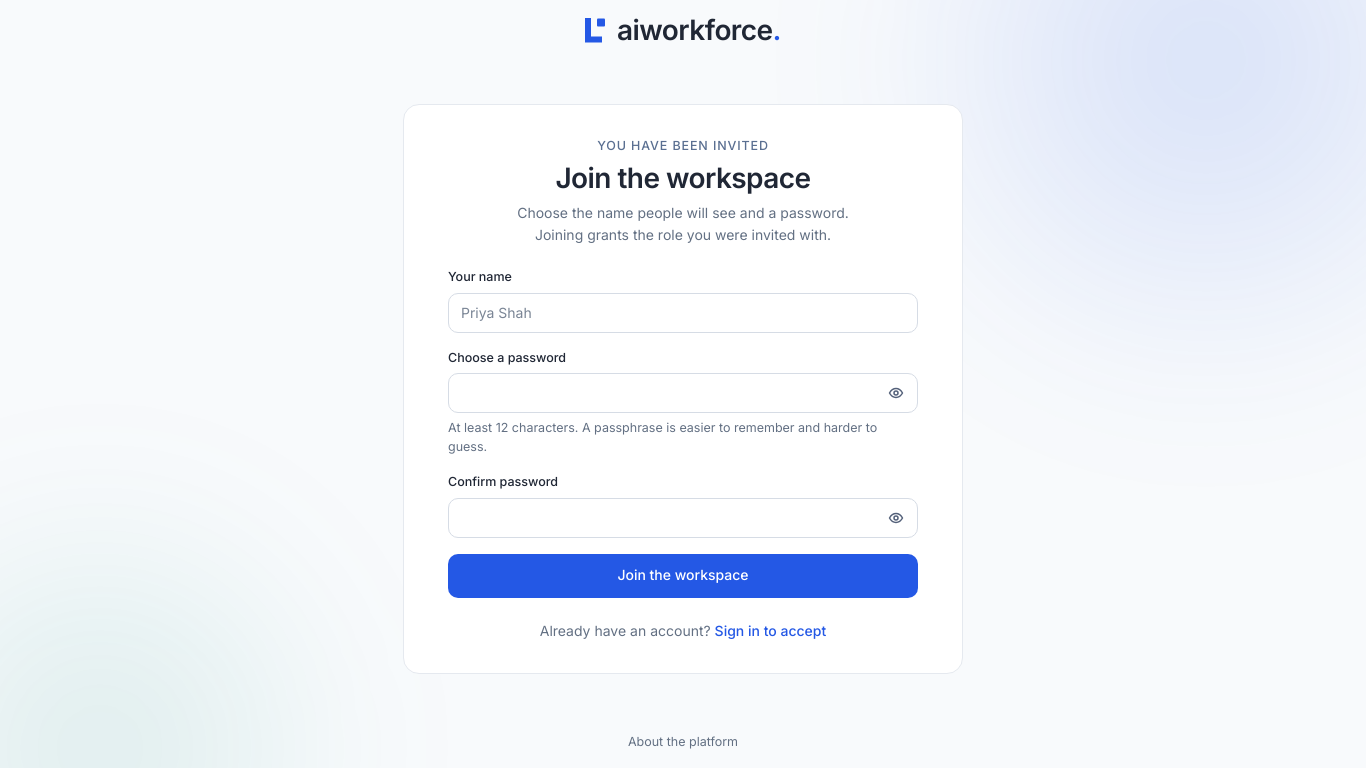
Scenario: AcceptInvite › replaces the form for an expired invitation and for an unknown link
Type "Rita Returning" into the field labelled "Your name" at (683, 312), box [448, 292, 918, 332]
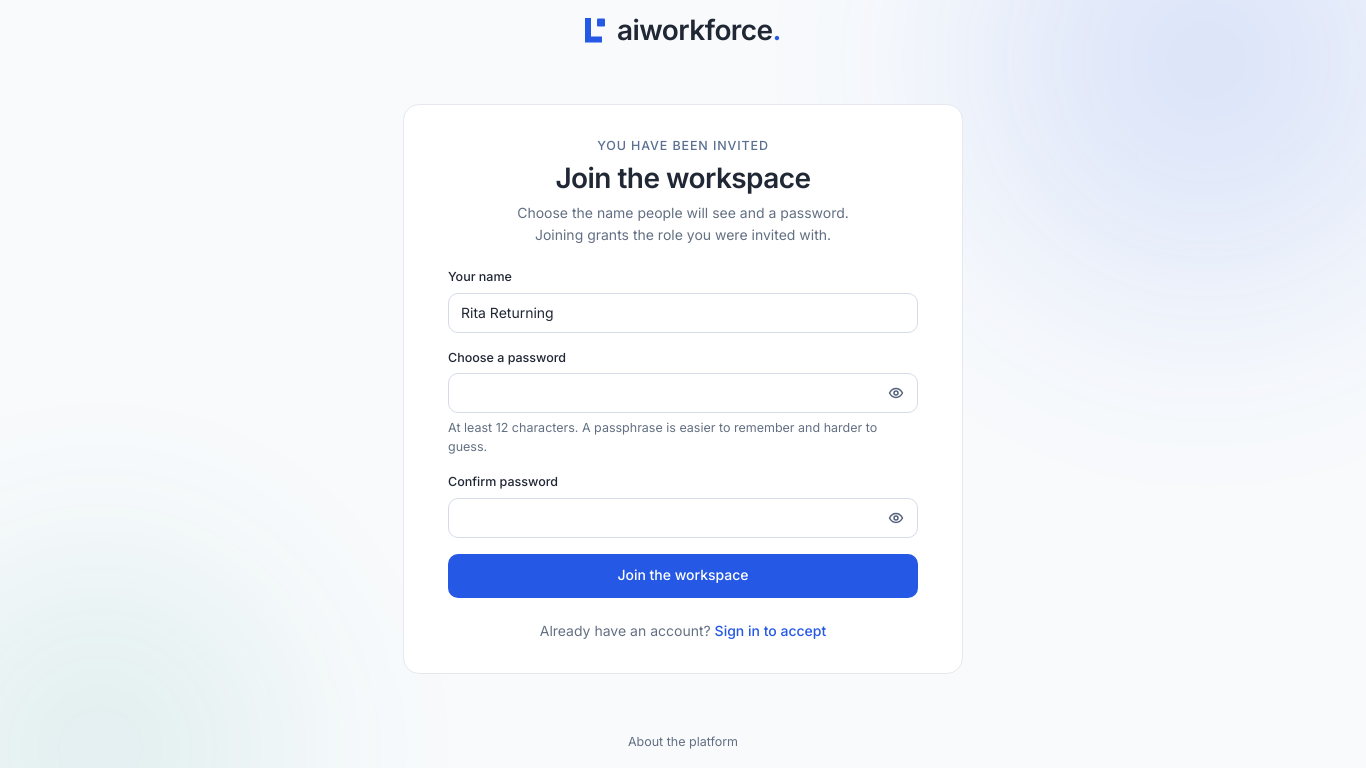
Type "correct horse battery" into the password field labelled "Choose a password" at (683, 393), box [448, 373, 918, 413]
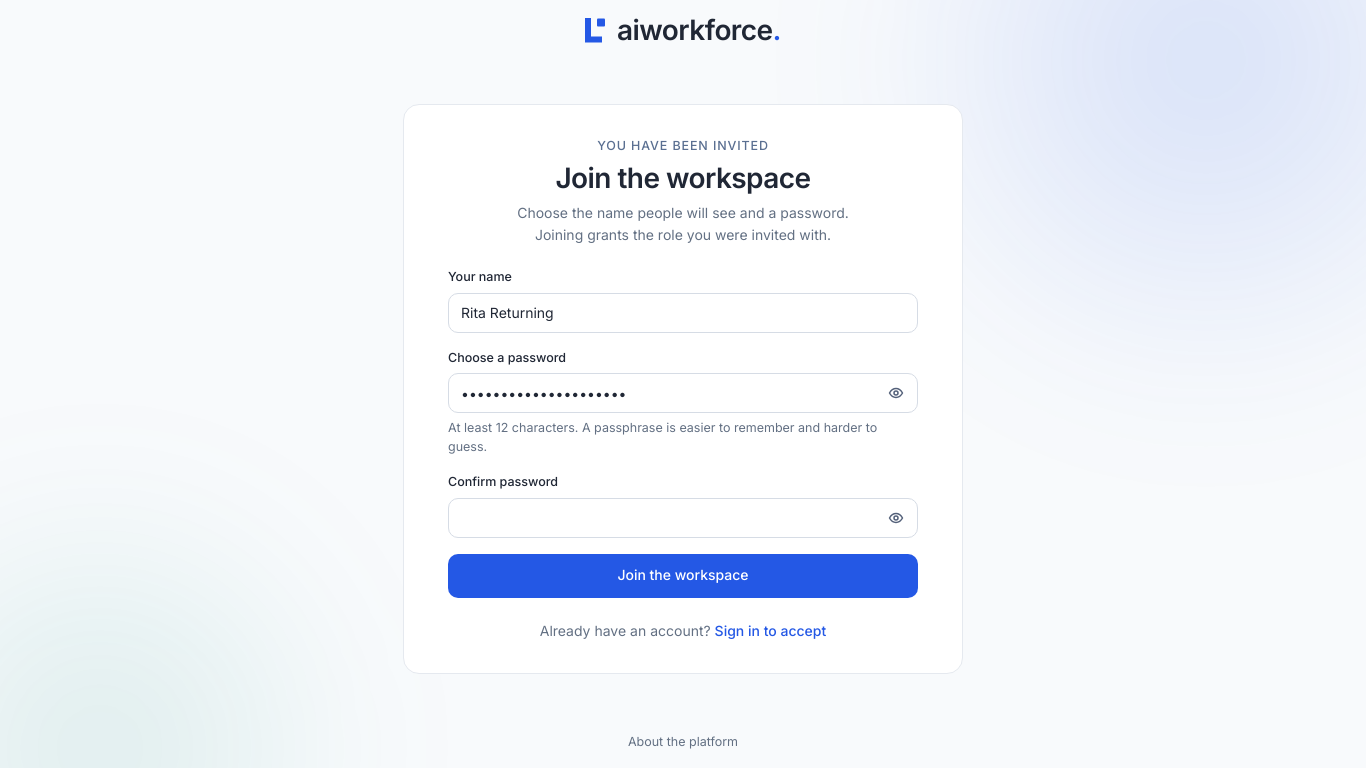
Type "correct horse battery" into the password field labelled "Confirm password" at (683, 518), box [448, 498, 918, 538]
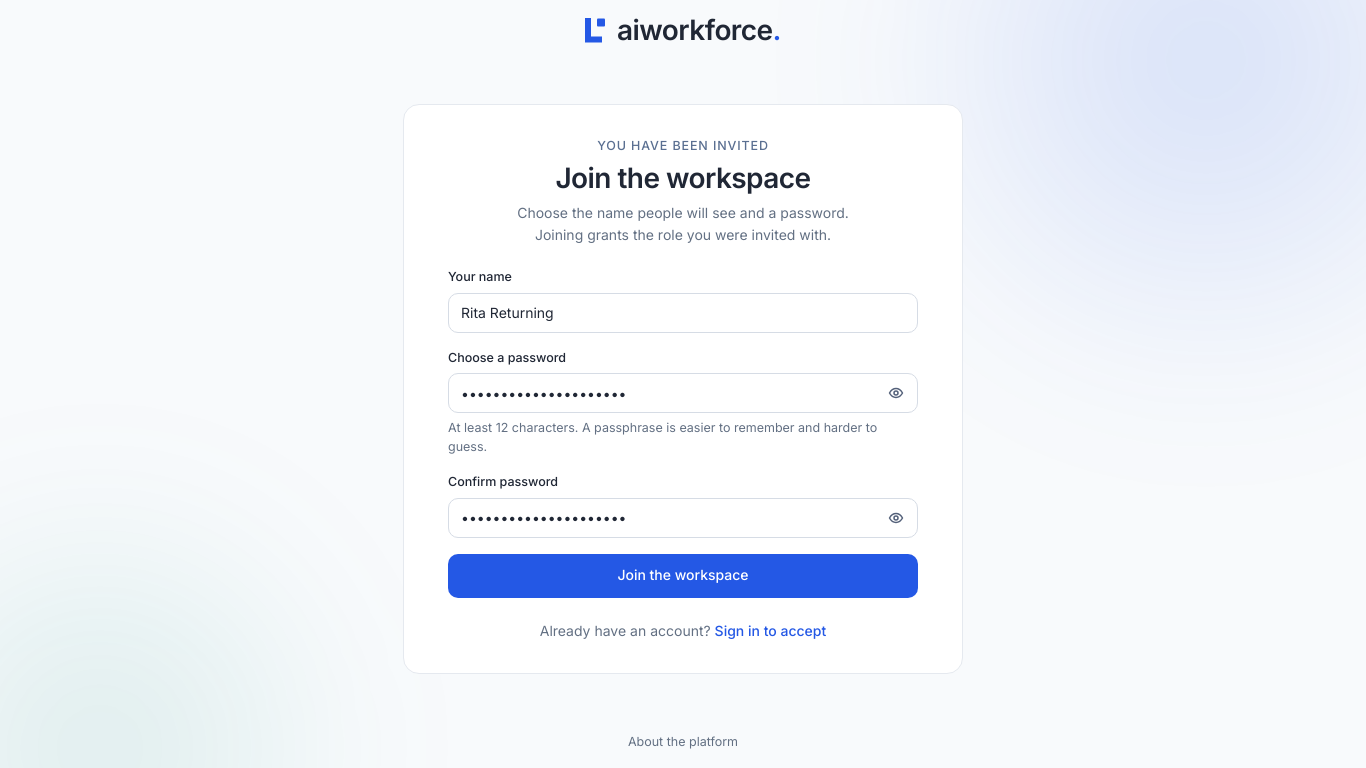
Click the button "Join the workspace" at (683, 576), box [448, 554, 918, 598]
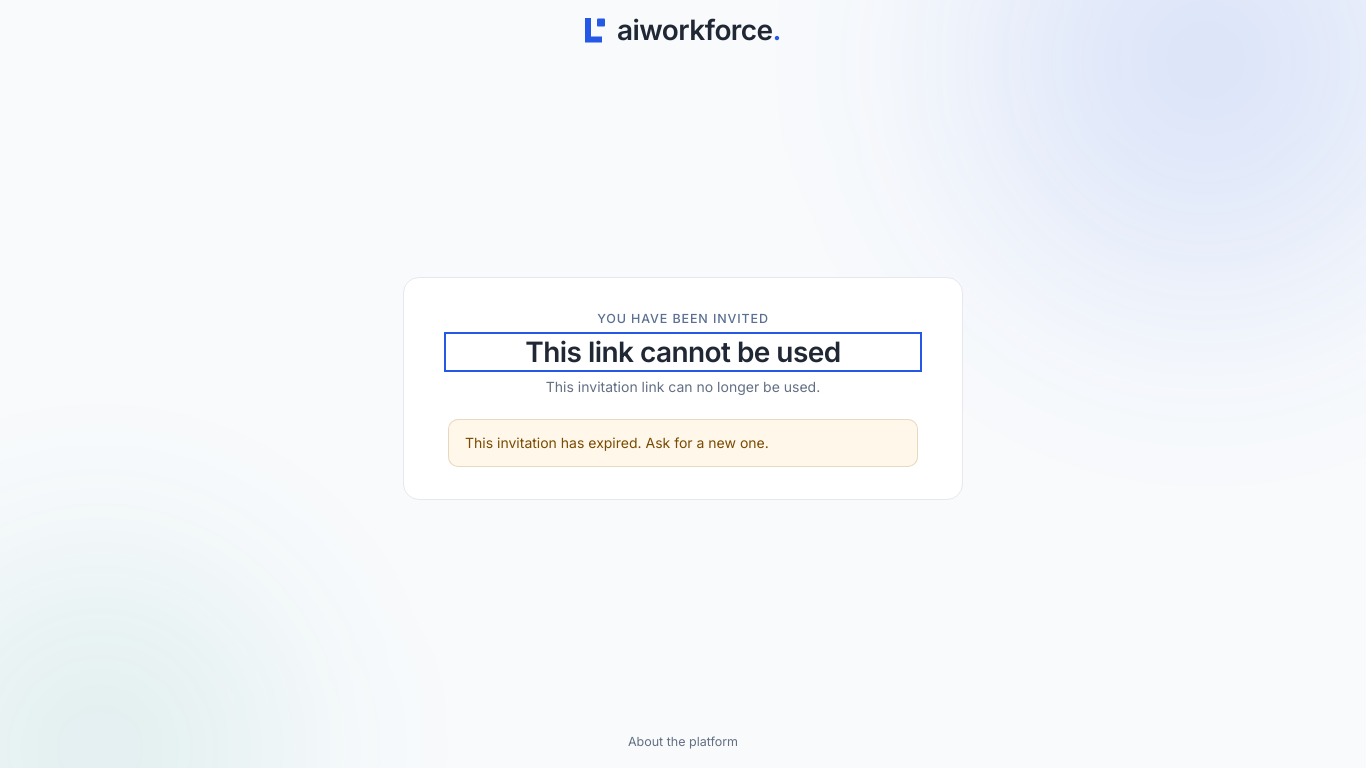
Expected: the text "This invitation has expired. Ask for a new one." is shown, [465, 434, 769, 452]
Expected: the heading "Join the workspace" is gone
